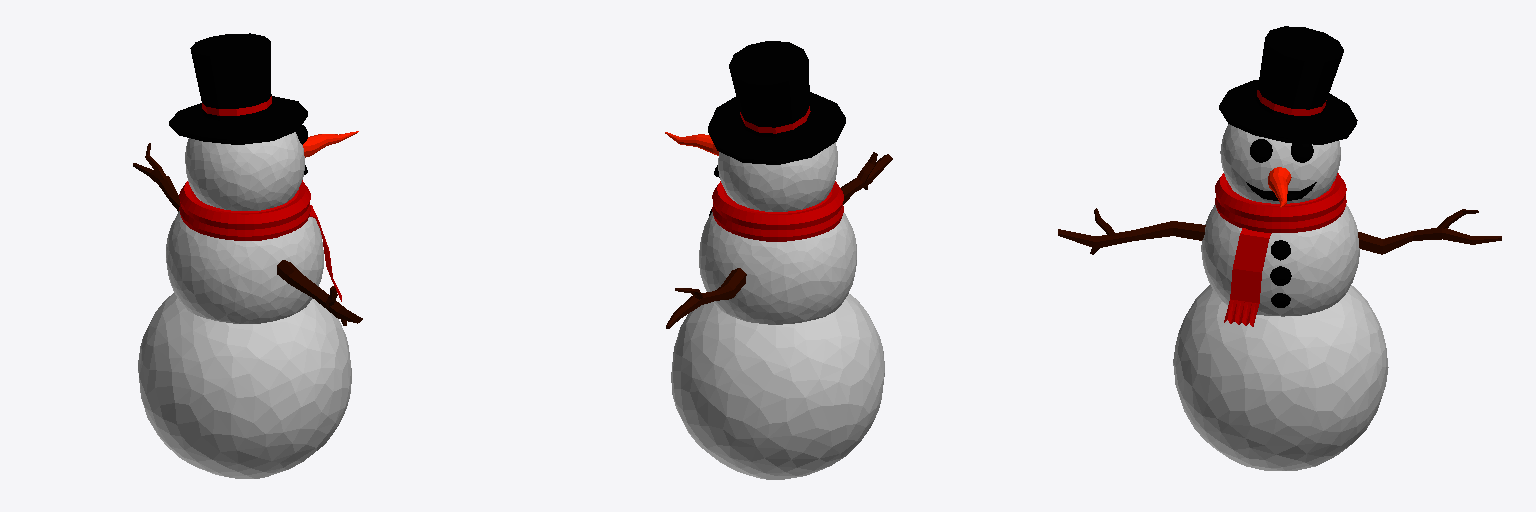
The model's file is snowman.obj.
The picture shows the model from 3 angles: view 1: azimuth 30°, elevation 25°; view 2: azimuth 150°, elevation 25°; view 3: azimuth 270°, elevation 25°; orthographic projection.
Parts seen in each view (by area): view 1: Snowman Icosphere, Snowman IcosphereFBXASC046001, Snowman CylinderFBXASC046001, Snowman IcosphereFBXASC046002, Snowman Torus, Snowman CylinderFBXASC046002, CylinderFBXASC046003 Snowman, Snowman Cylinder; view 2: Snowman Icosphere, Snowman IcosphereFBXASC046001, Snowman CylinderFBXASC046001, Snowman IcosphereFBXASC046002, Snowman Torus, CylinderFBXASC046003 Snowman, Snowman CylinderFBXASC046002, Snowman Cylinder; view 3: Snowman Icosphere, Snowman CylinderFBXASC046001, Snowman IcosphereFBXASC046001, Snowman IcosphereFBXASC046002, Snowman Torus, Snowman Cube, Snowman CylinderFBXASC046002, CylinderFBXASC046003 Snowman, Snowman Cylinder.
Part boxes in pixels (x1,y1,x2,y2): Snowman Icosphere: (138,293,351,478); Snowman IcosphereFBXASC046001: (166,211,323,323); Snowman CylinderFBXASC046001: (169,33,307,144); Snowman IcosphereFBXASC046002: (185,132,304,210); Snowman Torus: (179,180,310,240); Snowman CylinderFBXASC046002: (277,260,362,325); CylinderFBXASC046003 Snowman: (133,143,179,211); Snowman Cylinder: (303,131,358,157); Snowman Icosphere: (671,294,884,479); Snowman IcosphereFBXASC046001: (699,212,856,324); Snowman CylinderFBXASC046001: (708,41,845,164); Snowman IcosphereFBXASC046002: (718,142,837,211); Snowman Torus: (712,181,843,241); CylinderFBXASC046003 Snowman: (666,268,746,328); Snowman CylinderFBXASC046002: (841,152,892,204); Snowman Cylinder: (665,132,718,155); Snowman Icosphere: (1173,285,1388,470); Snowman CylinderFBXASC046001: (1219,26,1357,144); Snowman IcosphereFBXASC046001: (1201,204,1359,316); Snowman IcosphereFBXASC046002: (1220,124,1340,203); Snowman Torus: (1215,173,1346,232); Snowman Cube: (1224,228,1271,326); Snowman CylinderFBXASC046002: (1058,208,1205,254); CylinderFBXASC046003 Snowman: (1358,209,1501,254); Snowman Cylinder: (1268,167,1291,207).
Bounding box in the file's own units: 206 × 405 × 386.